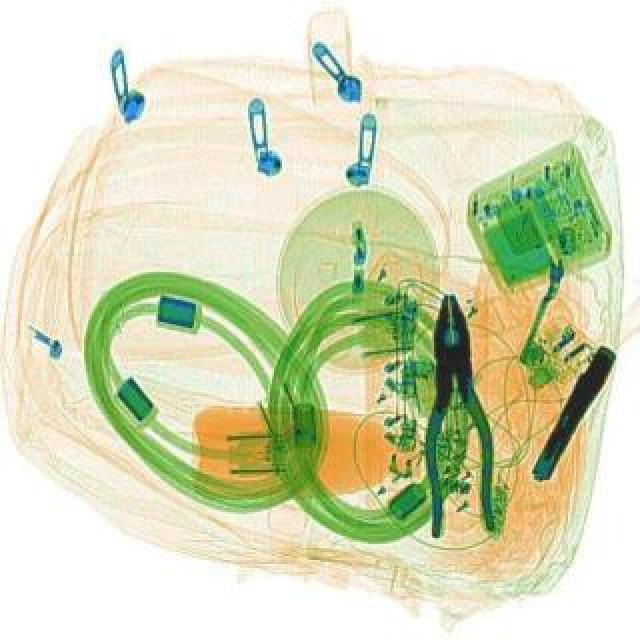gun: (524, 338, 620, 482)
wrench: (416, 290, 496, 538)
